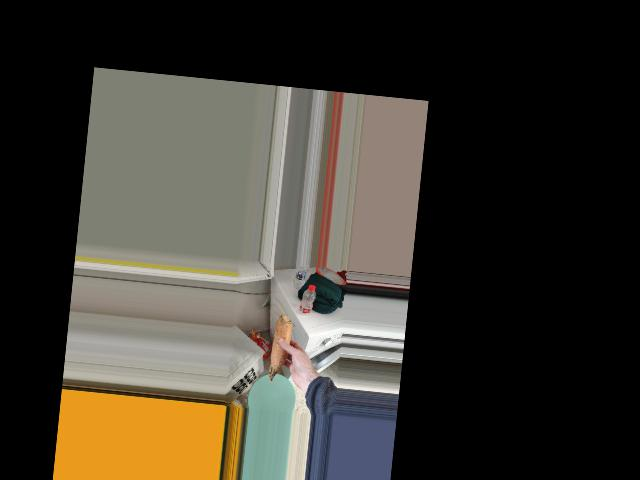sweet_potato: (266, 311, 298, 384)
